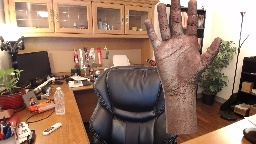Mano_aperta: (141, 0, 222, 93)
